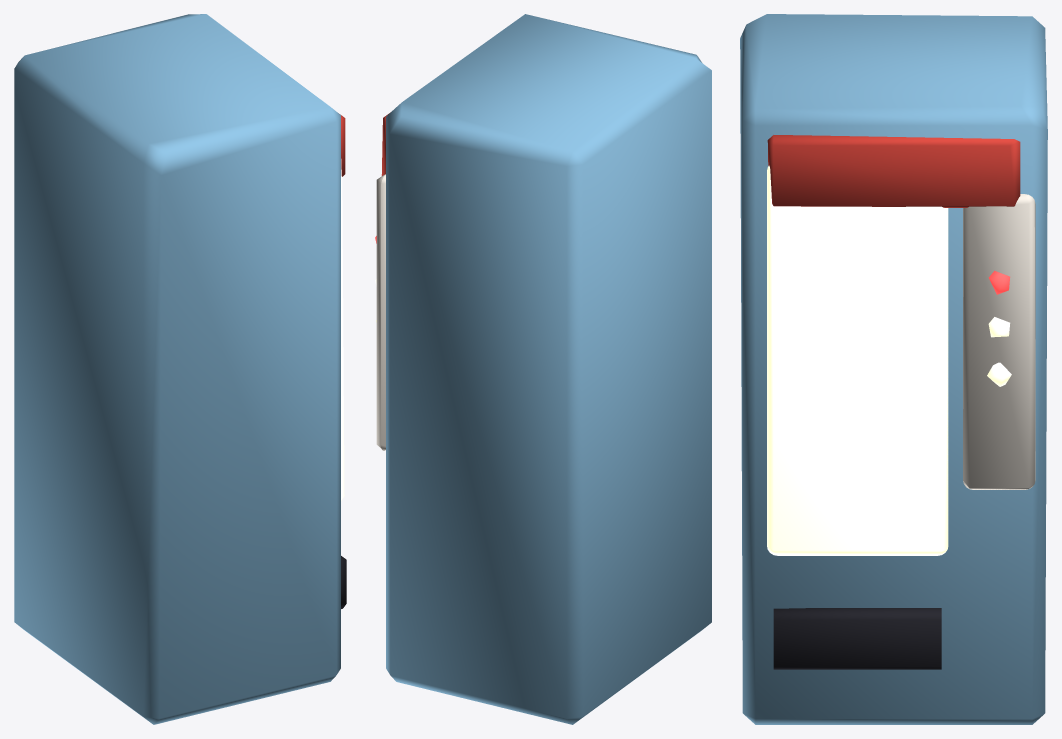
Rendered from vending.glb.
3 views of the same model, side by side, from view 1: azimuth 30°, elevation 25°; view 2: azimuth 150°, elevation 25°; view 3: azimuth 270°, elevation 25° (orthographic). The views are drawn at different scales.
Parts seen in each view (by area): view 1: vending; view 2: vending; view 3: vending.
Boxes of the visible parts, x1,y1,x2,y2 form: vending: [14, 14, 346, 724]; vending: [375, 14, 711, 724]; vending: [740, 14, 1047, 724].
Bounding box in the file's own units: 0.7613 × 1.88 × 0.8478.
1 material, 1 textured.
